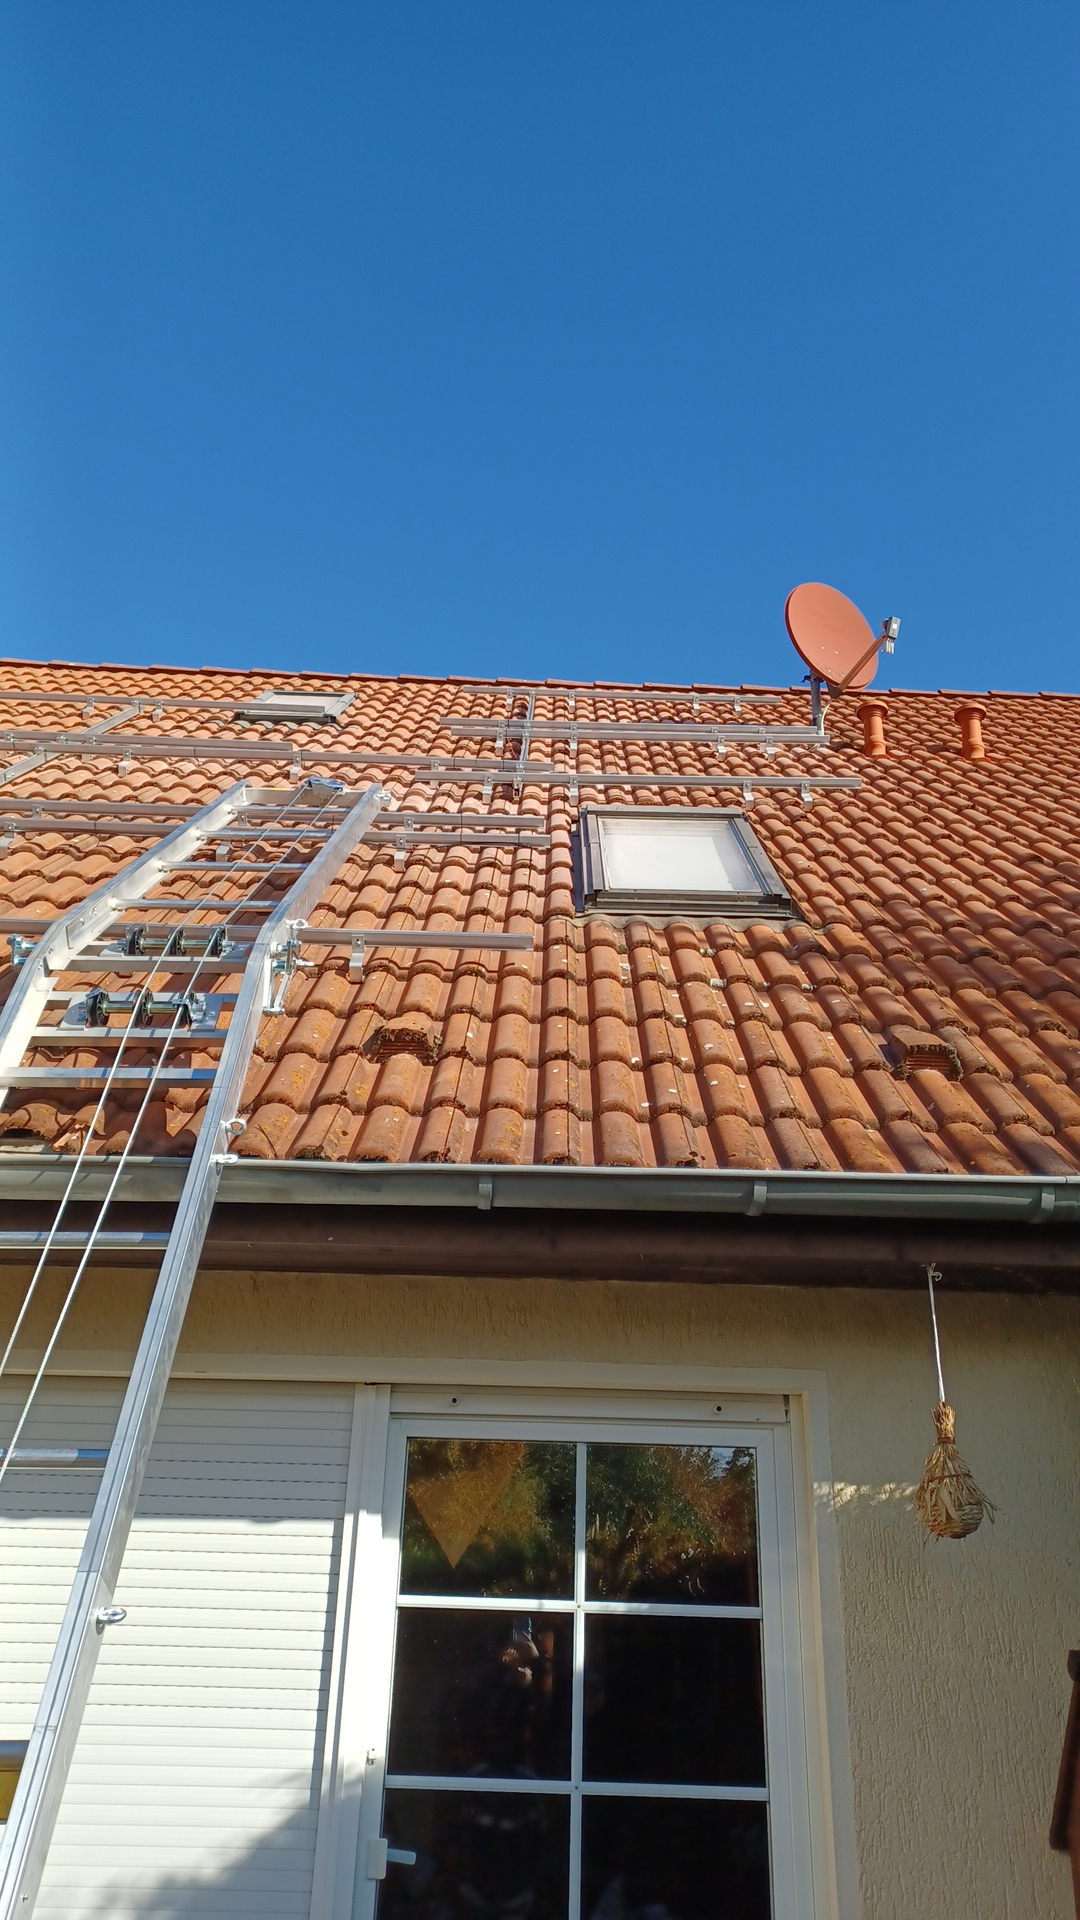hook: (349, 934, 367, 982), (25, 804, 42, 839), (216, 829, 233, 862), (1, 822, 15, 858), (233, 810, 247, 847), (394, 835, 407, 872), (800, 781, 814, 811), (117, 748, 131, 778), (289, 752, 301, 783), (404, 818, 414, 851), (742, 781, 754, 810), (568, 775, 579, 806), (483, 774, 492, 804), (430, 760, 439, 789), (82, 698, 94, 720), (1, 732, 11, 760), (152, 699, 162, 723), (766, 737, 775, 764), (717, 736, 727, 760), (570, 732, 578, 758), (495, 731, 502, 756), (711, 727, 717, 752), (694, 694, 700, 717), (568, 691, 575, 713), (506, 688, 513, 711), (760, 728, 765, 753), (735, 696, 741, 715), (84, 736, 95, 746), (80, 753, 90, 762), (570, 723, 578, 731), (498, 721, 505, 729)
